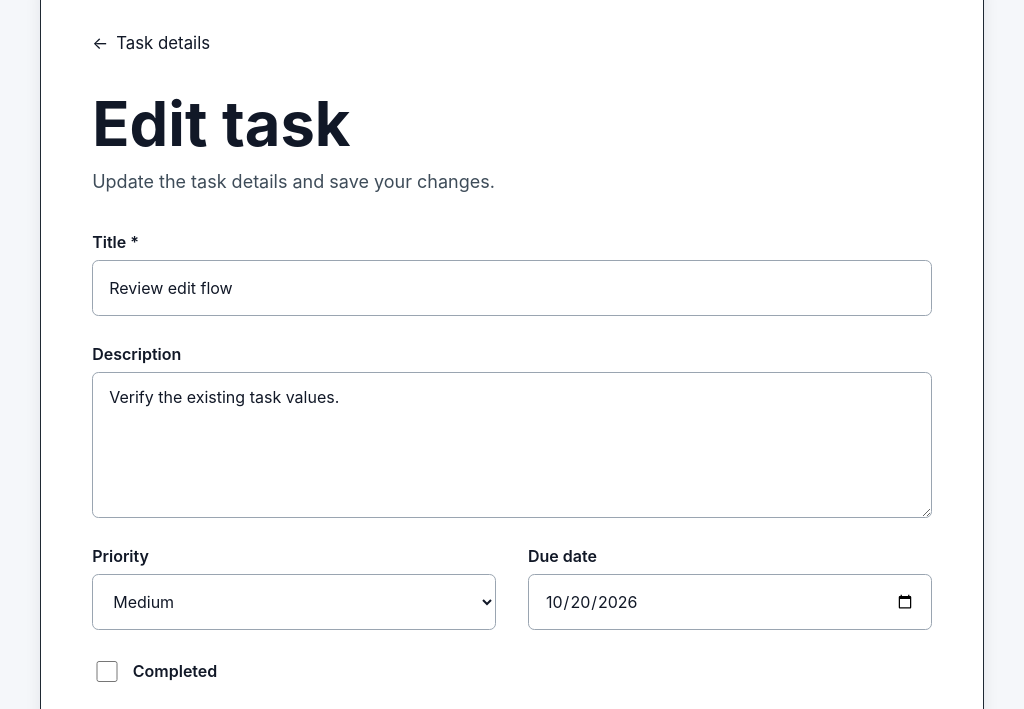
Test case: TaskEditPage › shows an update failure and preserves the edited draft
The image size is (1024, 709).
Replace the text in the field labelled "Title *" with "Keep edited title". click: (512, 288)
box: [92, 260, 932, 316]
(page scrolled)
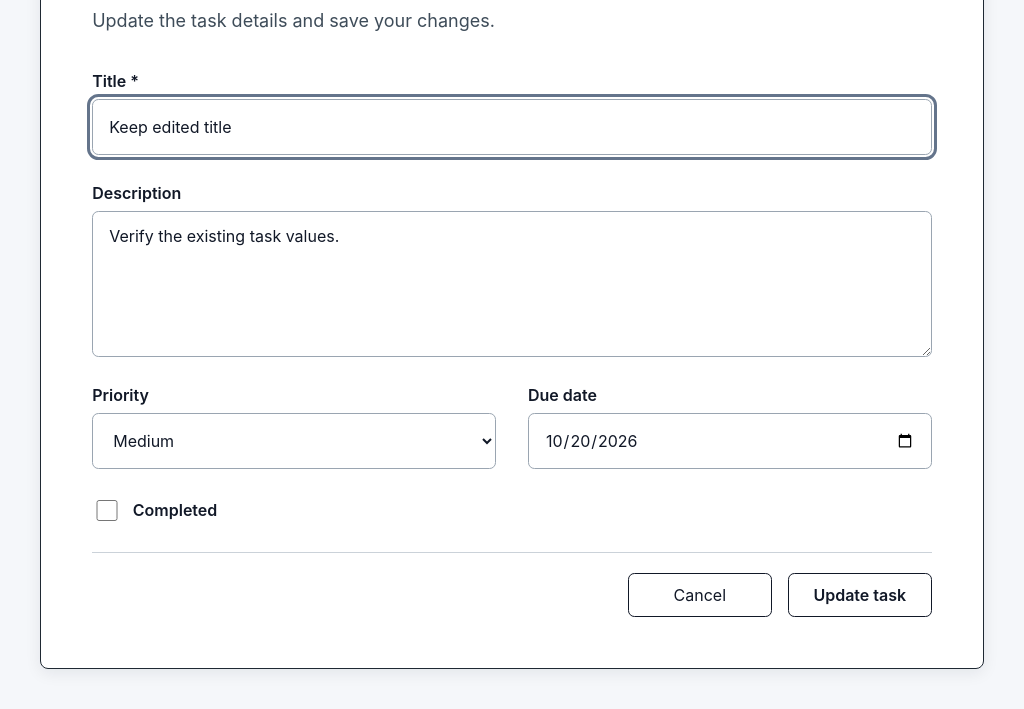
Click the button "Update task". click: (860, 595)
box: [788, 573, 932, 617]
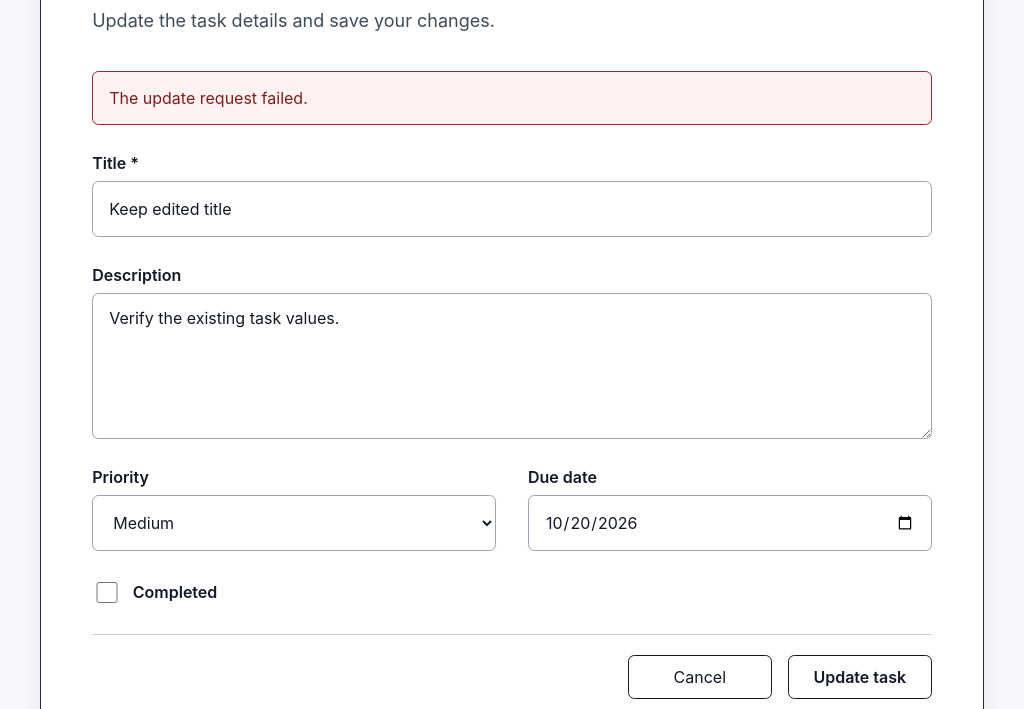
Expected: the button "Update task" is enabled, [788, 655, 932, 699]
Now the message reads "The update request failed.", box [109, 88, 308, 108]
